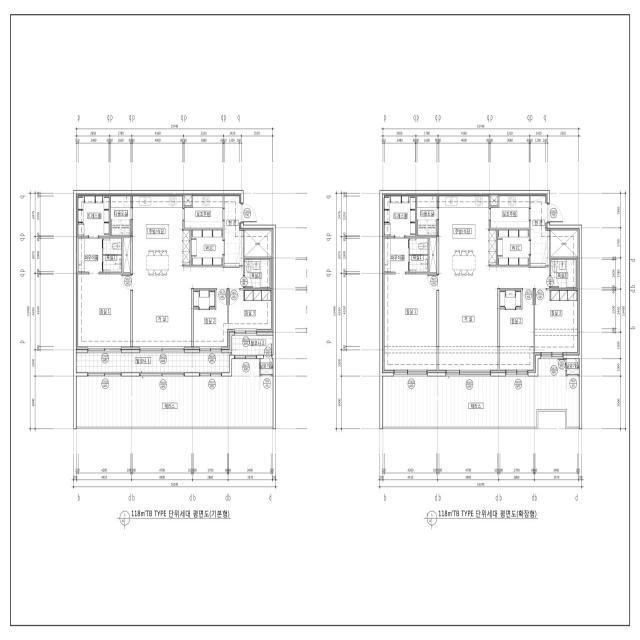space_balconi: (76, 353, 231, 373), (232, 336, 273, 355)
space_bedroom: (384, 274, 436, 372), (78, 275, 131, 349), (500, 290, 534, 372), (535, 290, 577, 355), (194, 290, 227, 349), (229, 290, 271, 332)
space_dressroom: (384, 196, 415, 236), (78, 196, 109, 236)
space_front: (530, 196, 549, 265), (224, 196, 243, 265)
space_kitchen: (439, 196, 496, 276), (133, 196, 190, 276), (184, 196, 223, 228), (491, 196, 529, 228)
space_living_room: (439, 267, 550, 372), (133, 267, 243, 349)
space_other: (191, 230, 223, 265), (498, 230, 530, 265), (110, 196, 131, 236), (78, 238, 102, 272), (385, 238, 409, 272), (417, 196, 437, 236), (244, 230, 271, 257), (551, 230, 578, 257), (429, 238, 437, 273), (123, 238, 130, 273), (184, 196, 192, 205), (491, 196, 498, 205)
space_outdoor_room: (261, 359, 273, 374), (567, 359, 579, 374)
space_toilet: (245, 259, 270, 288), (551, 260, 576, 288), (409, 238, 428, 272), (103, 238, 122, 272)
